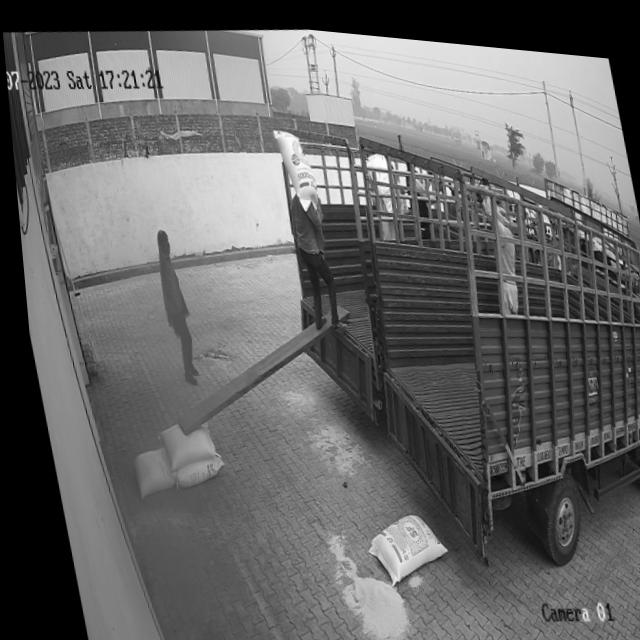sack: (350, 499, 444, 585), (269, 119, 319, 210), (147, 415, 210, 472), (121, 440, 168, 497), (163, 447, 218, 488)
